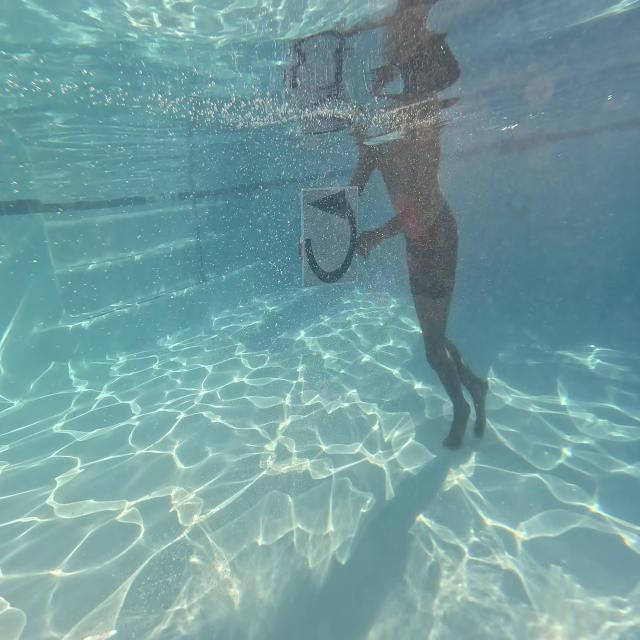blue_side: (300, 185, 358, 288)
